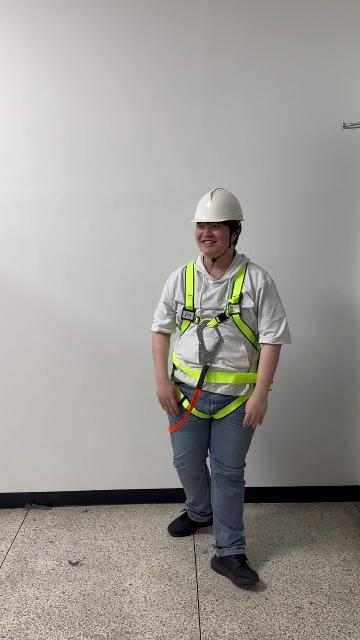helmet_worn: (189, 187, 246, 224)
shoe_not_worn: (210, 552, 259, 587), (167, 509, 212, 537)
vest_worn: (167, 261, 271, 421)
